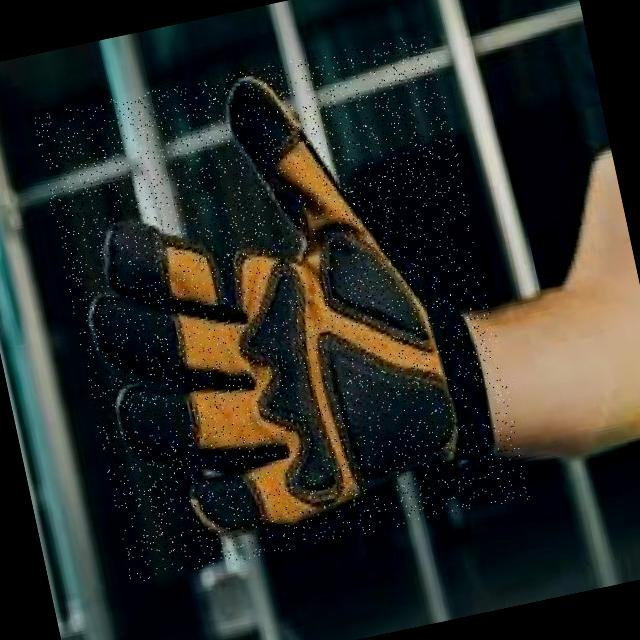gloves: (32, 38, 519, 566)
